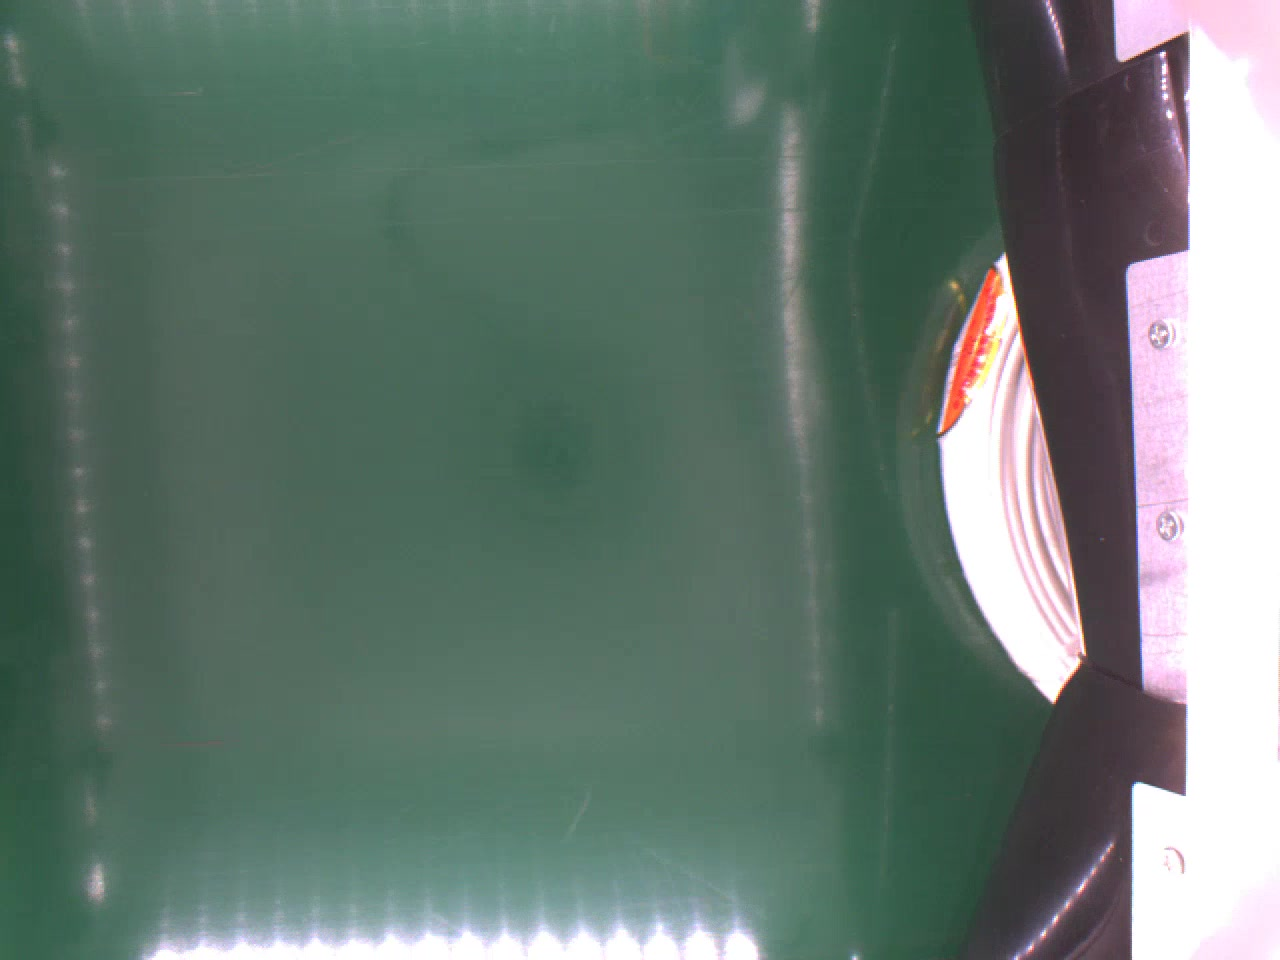white: (941, 245, 1080, 703)
